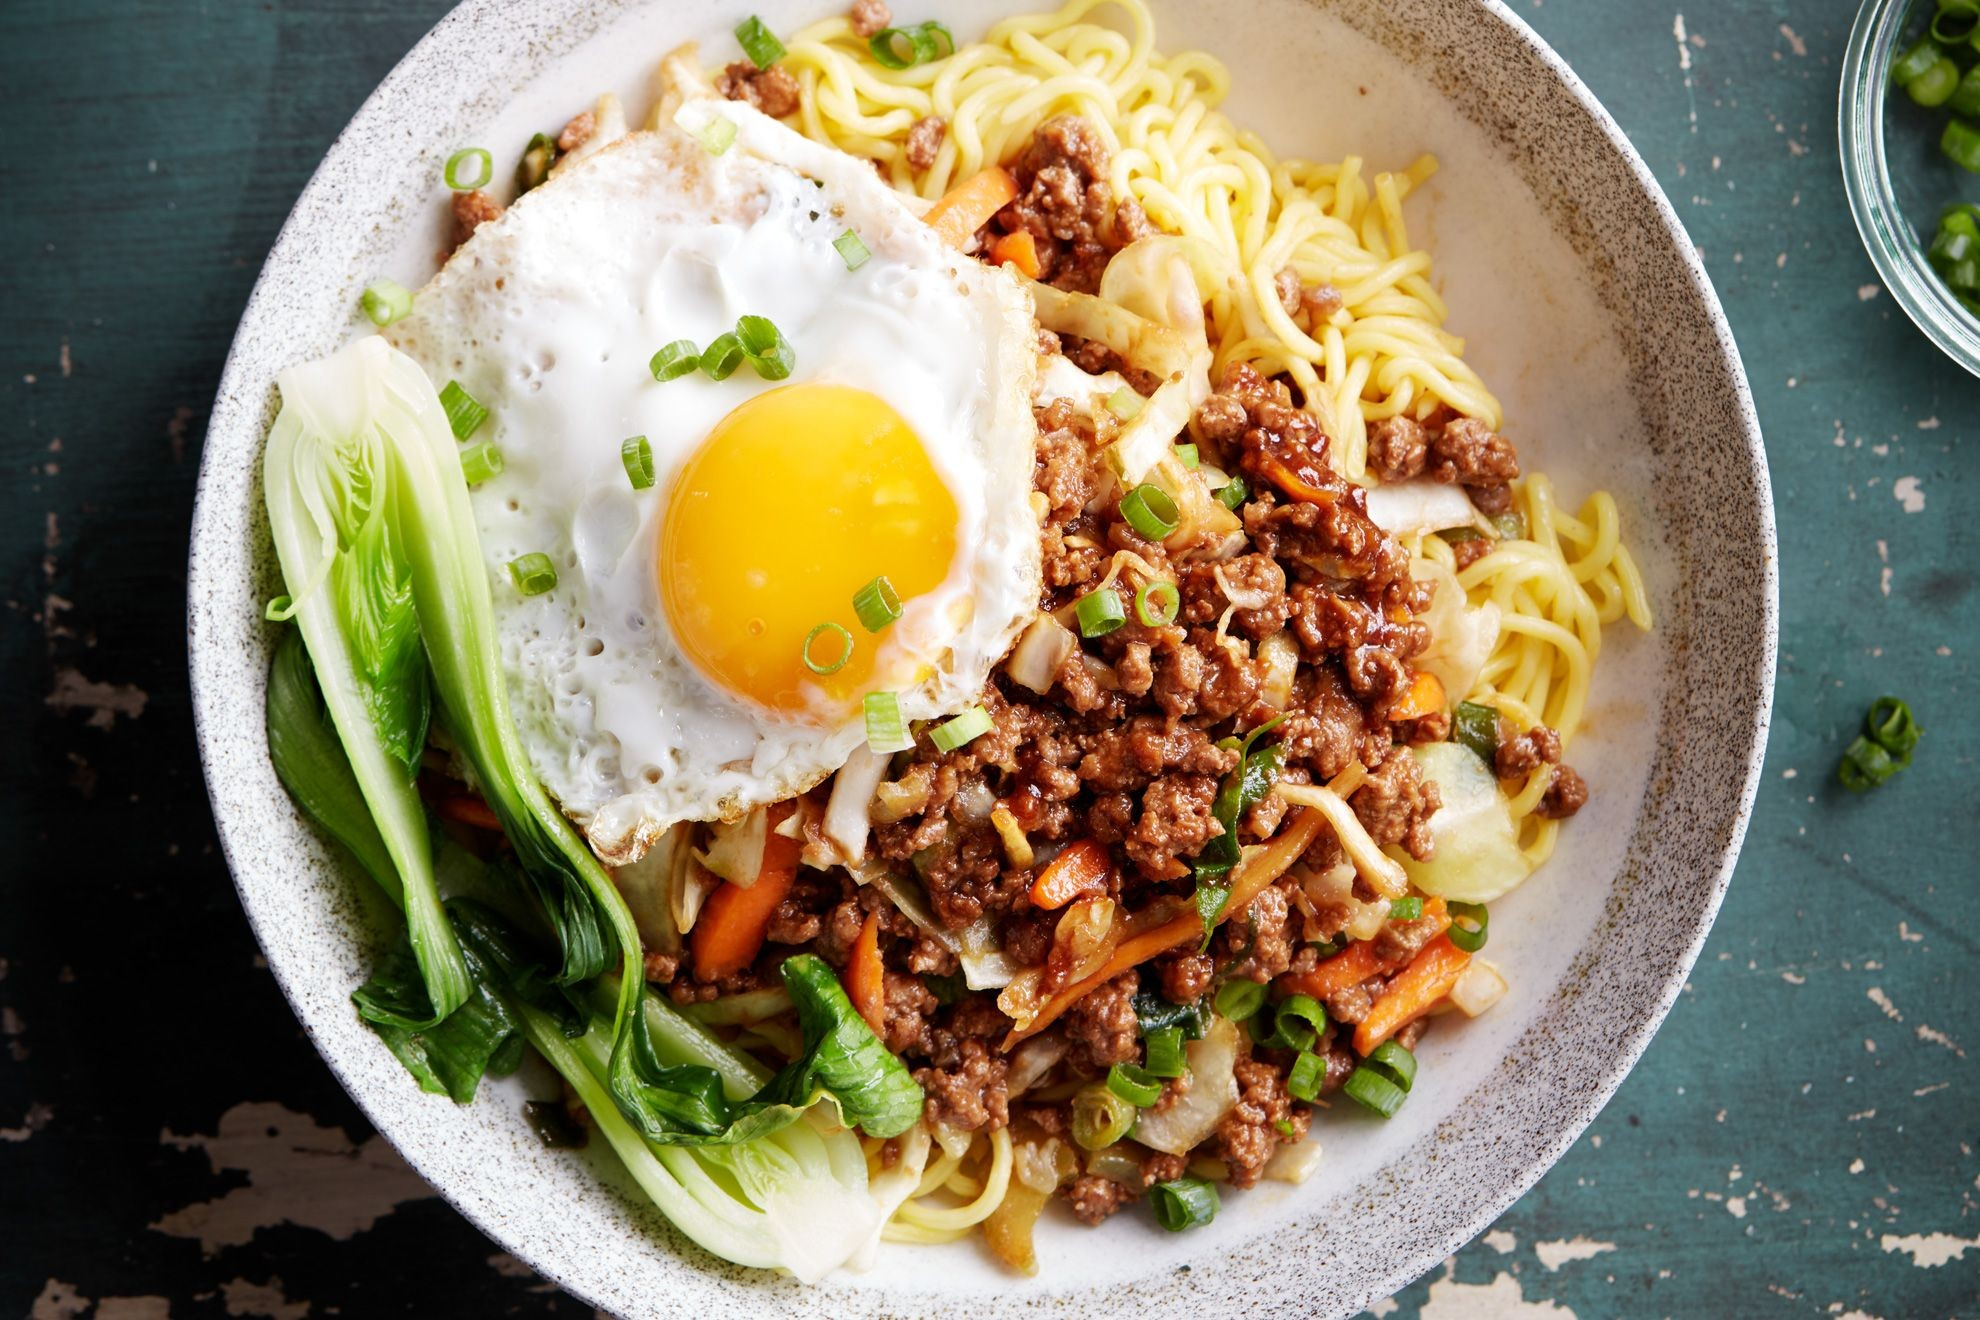chopped lettuce: (382, 862, 925, 1257)
fried egg: (407, 222, 994, 751)
plain spaghetti: (784, 21, 1548, 342)
